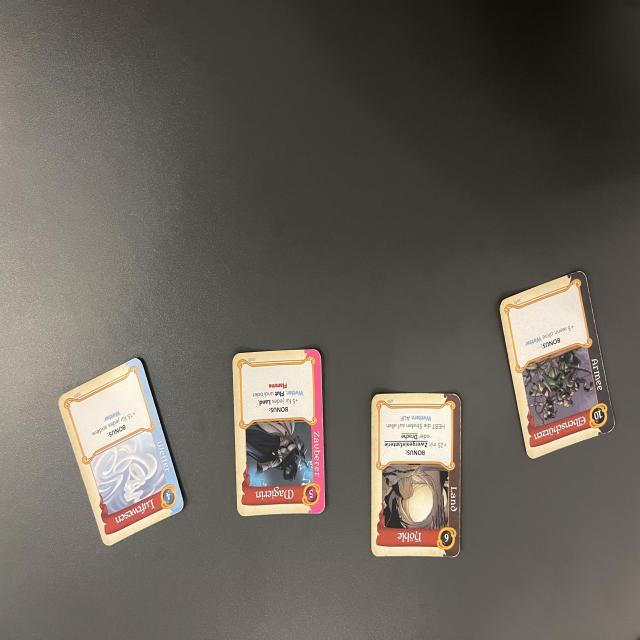Air Elemental: (56, 351, 188, 549)
Elemental Enchantress: (231, 342, 329, 521)
Elven Archers: (494, 267, 620, 462)
Underground Caverns: (368, 392, 459, 558)
